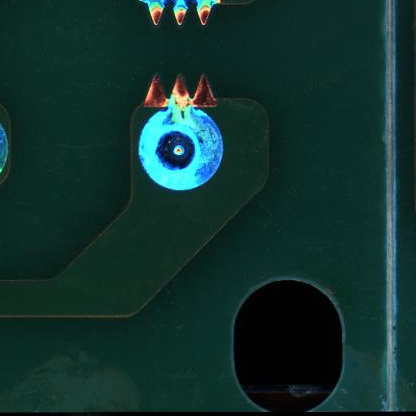spot: (134, 96, 242, 203)
